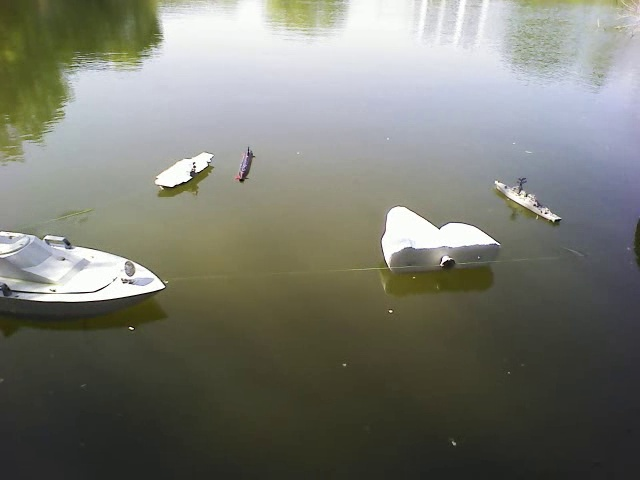aircraft_carrier: (152, 149, 217, 193)
boat: (2, 227, 169, 316)
iceberg: (380, 200, 506, 272)
submarine: (236, 148, 262, 185)
warship: (496, 175, 563, 227)
